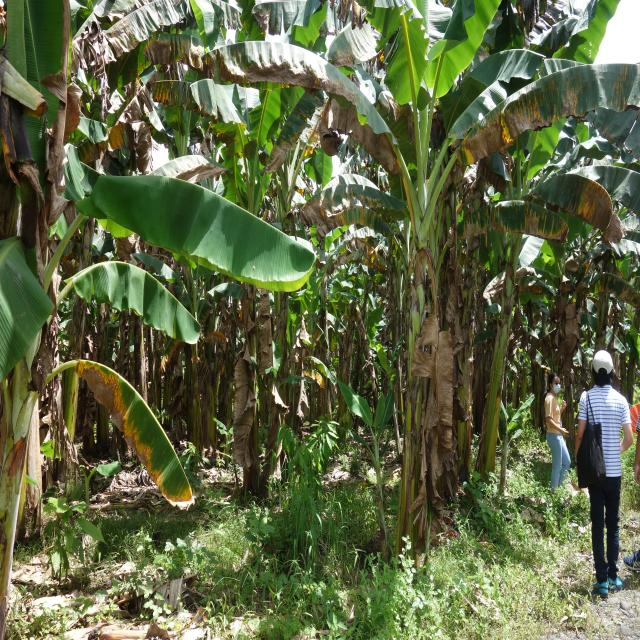Banana-plant: (385, 188, 446, 554), (482, 232, 522, 486)
